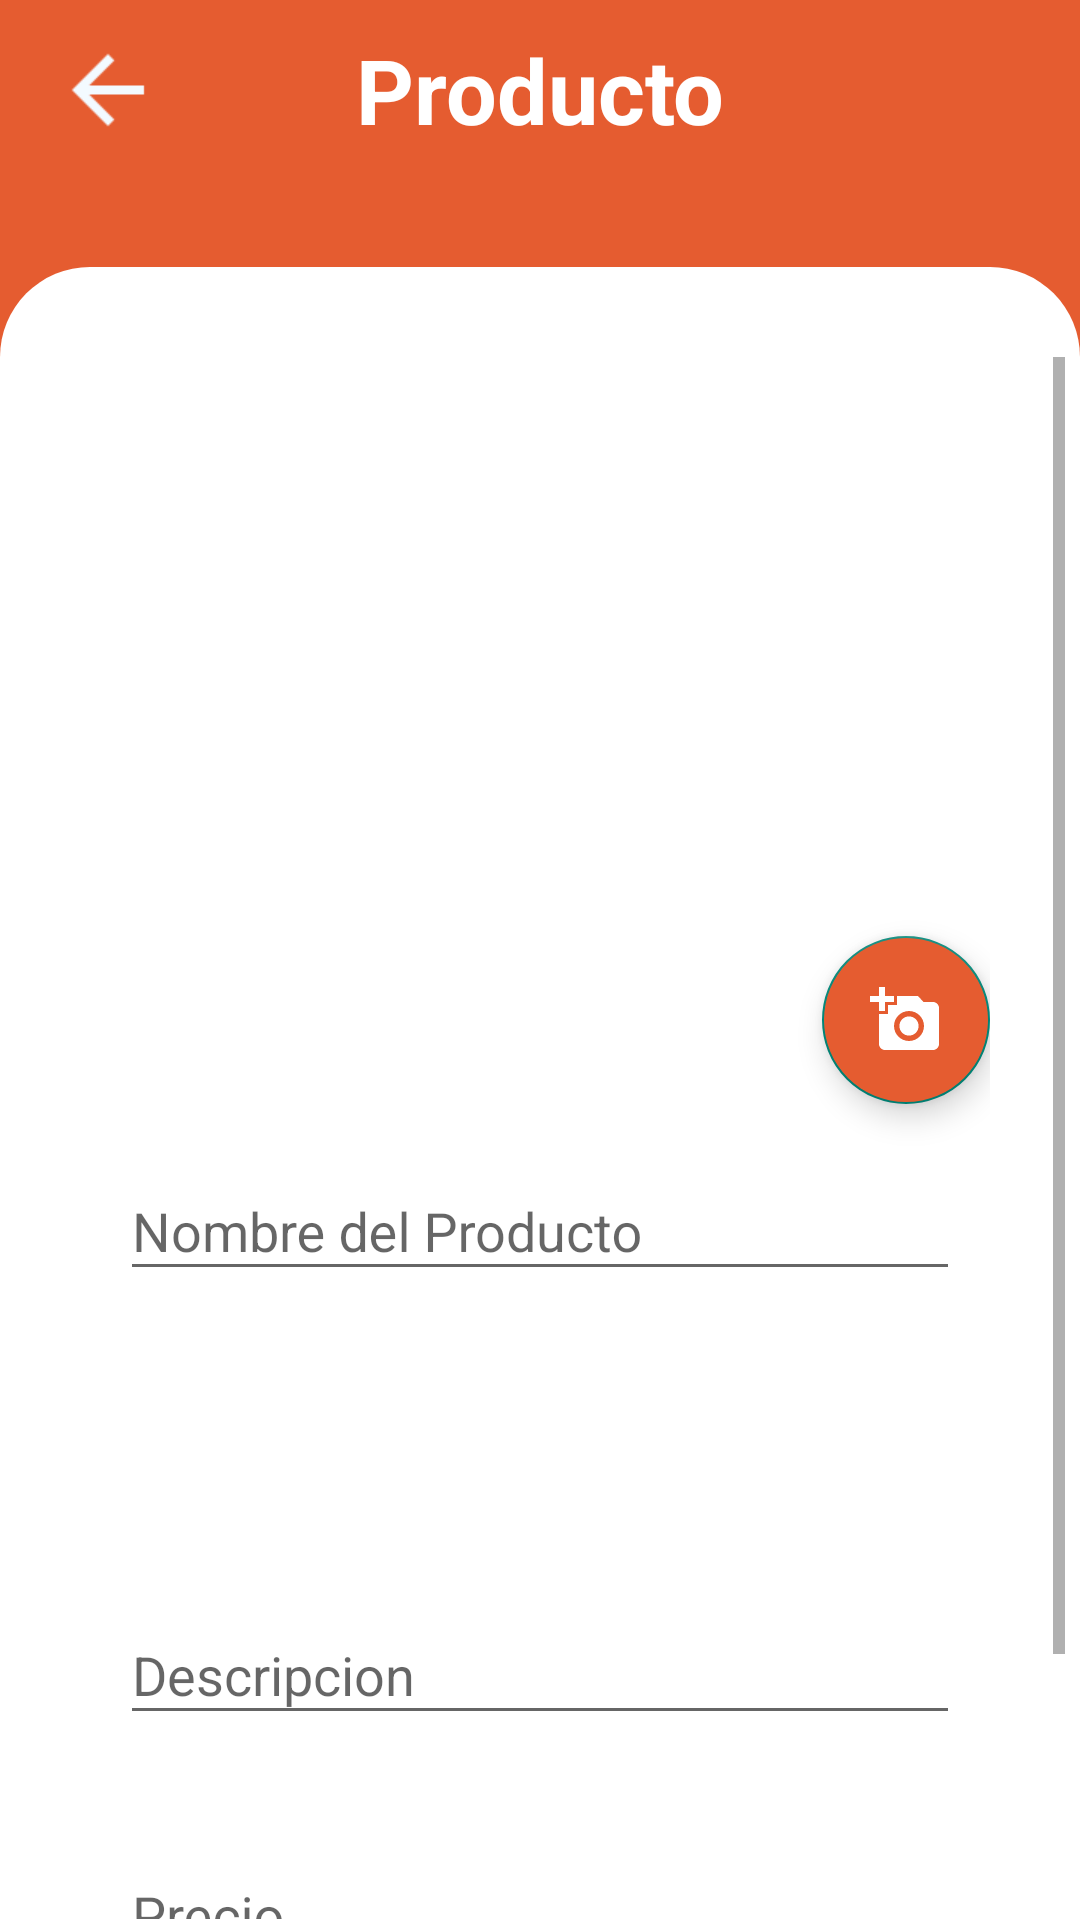

Icon click points for this 1080 × 1920 phone screenshot, format (x,y):
add photo: (906,1020)
